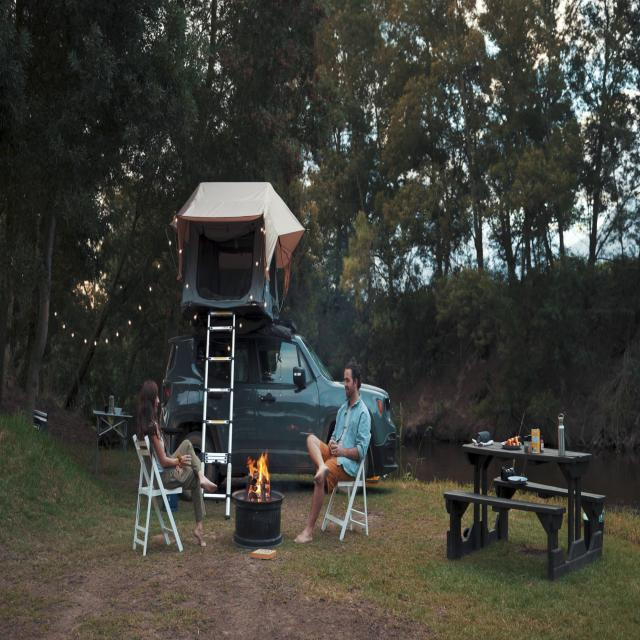Fire: (244, 446, 273, 502)
